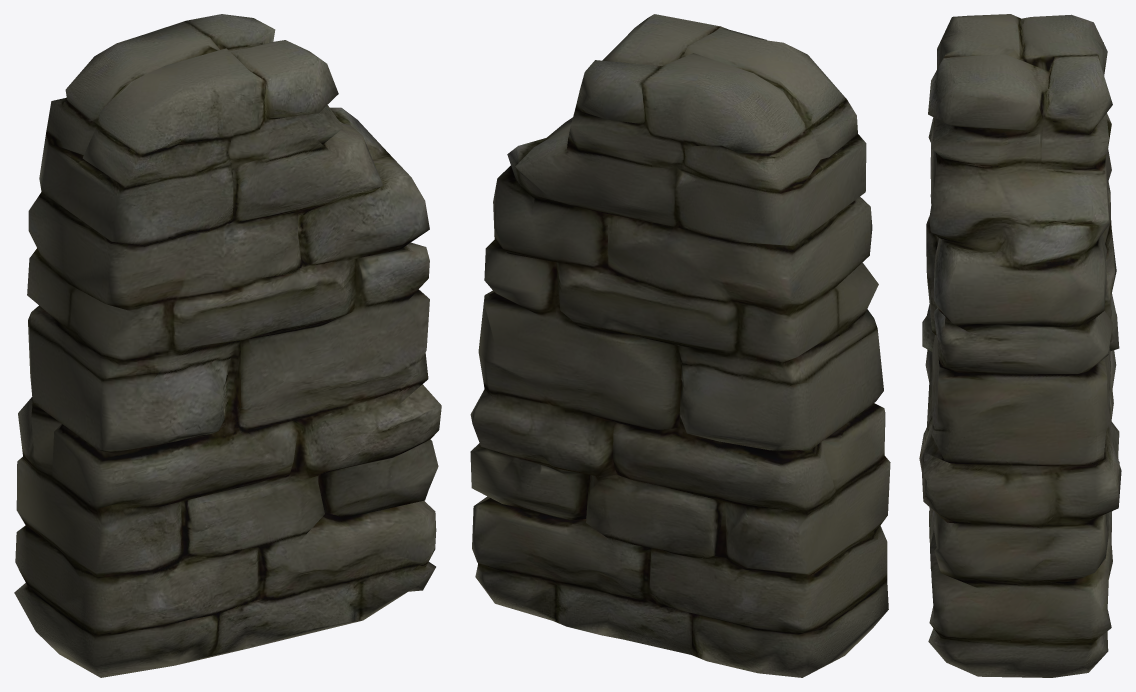
The model's file is standing-monument.glb.
3 views of the same model, side by side, from view 1: azimuth 30°, elevation 25°; view 2: azimuth 150°, elevation 25°; view 3: azimuth 270°, elevation 25° (orthographic). The views are drawn at different scales.
Parts seen in each view (by area): view 1: tripo_node_2fc4d15f-50cd-42d8-a55b-bbfa1b93e357; view 2: tripo_node_2fc4d15f-50cd-42d8-a55b-bbfa1b93e357; view 3: tripo_node_2fc4d15f-50cd-42d8-a55b-bbfa1b93e357.
Boxes of the visible parts, <box> form: tripo_node_2fc4d15f-50cd-42d8-a55b-bbfa1b93e357: <box>14,14,441,677</box>; tripo_node_2fc4d15f-50cd-42d8-a55b-bbfa1b93e357: <box>470,14,890,677</box>; tripo_node_2fc4d15f-50cd-42d8-a55b-bbfa1b93e357: <box>919,14,1121,677</box>.
Bounding box in the file's own units: 0.6499 × 1 × 0.3323.
1 material, 1 textured.
